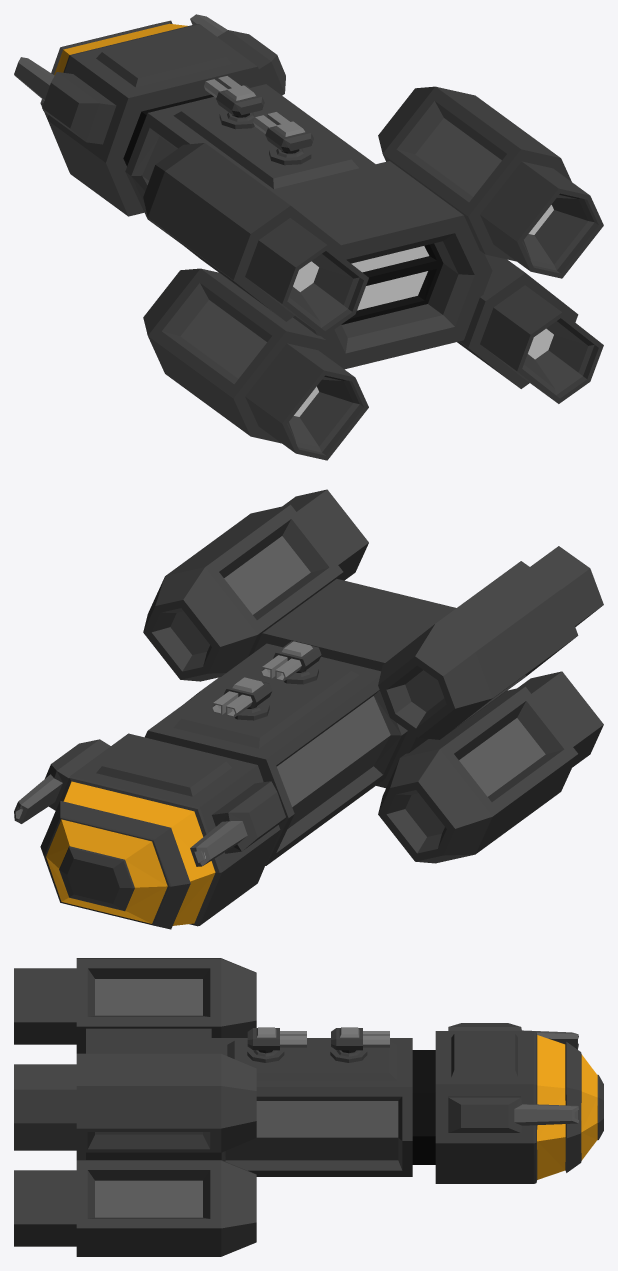
The model's file is LPSP_SmallFrigate.fbx.
The picture shows the model from 3 angles, top to bottom: view 1: azimuth 30°, elevation 25°; view 2: azimuth 150°, elevation 25°; view 3: azimuth 270°, elevation 25°; orthographic projection. The views are drawn at different scales.
Visible parts, largest first — view 1: SmallFrigate; view 2: SmallFrigate; view 3: SmallFrigate.
Part boxes in pixels (<box>): SmallFrigate: <box>14,14,603,460</box>; SmallFrigate: <box>14,489,603,929</box>; SmallFrigate: <box>14,958,603,1256</box>.
Bounding box in the file's own units: 536 × 356 × 941.
